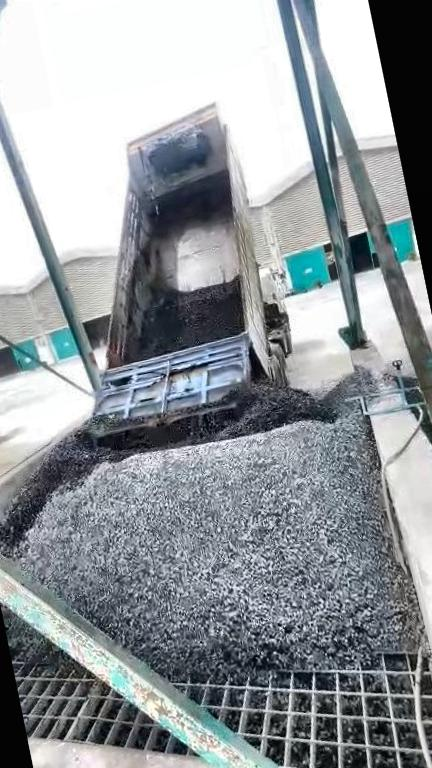gravel: (0, 361, 423, 682), (129, 278, 244, 361), (3, 609, 93, 676)
sand: (0, 434, 16, 496)
